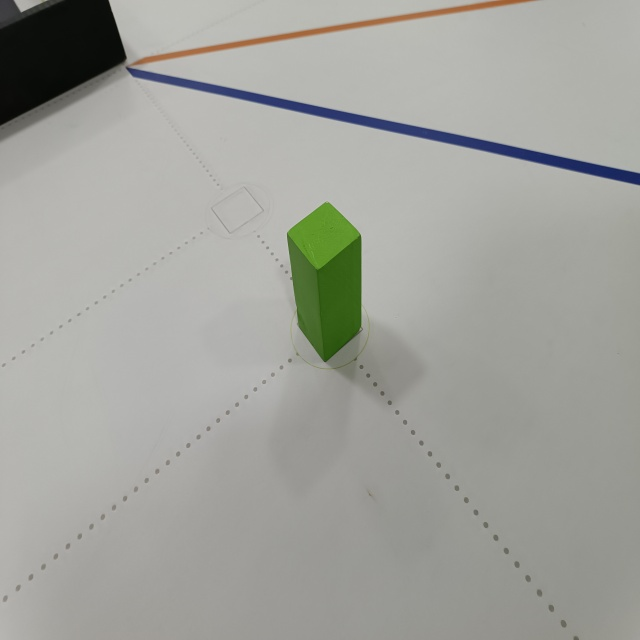blue line: (119, 63, 640, 189)
green rectangular prism: (284, 199, 370, 365)
orange line: (123, 0, 534, 68)
